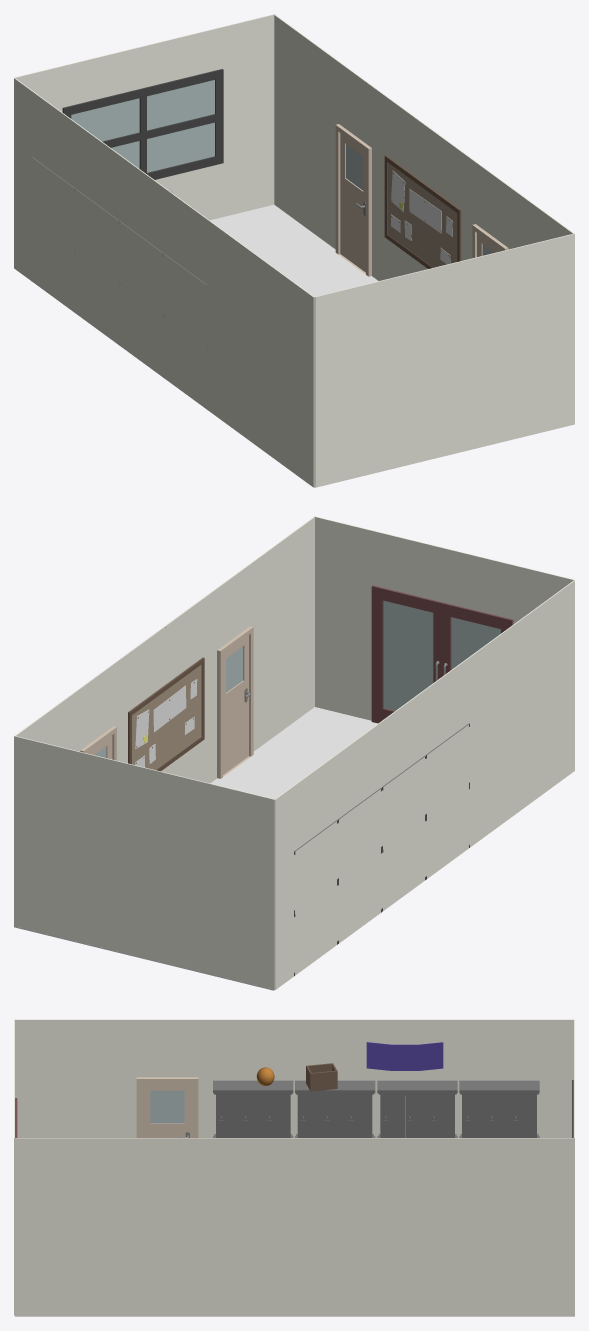
Rendered from pasillo_prueba.fbx.
The picture shows the model from 3 angles, top to bottom: view 1: azimuth 30°, elevation 25°; view 2: azimuth 150°, elevation 25°; view 3: azimuth 270°, elevation 25°; orthographic projection. The views are drawn at different scales.
Visible parts, largest first — view 1: pCube4, pCube15, pCube10, pCube2, pCube8, pCube1, pCube5 (×2), pCube11, pCube19; view 2: pCube4, pCube2, pCube10, pCube15, pCube6, pCube1, pCube5 (×2), pCube11, pCube19; view 3: pCube10, pCube4, Taquillas1, pCube5, Taquillas2, pPlane1, Puerta, pCube7, pCube1.
Boxes of the visible parts, x1=… form: pCube4: x1=14, y1=78, x2=314, y2=487; pCube15: x1=314, y1=233, x2=574, y2=487; pCube10: x1=274, y1=14, x2=573, y2=280; pCube2: x1=15, y1=14, x2=274, y2=220; pCube8: x1=62, y1=69, x2=223, y2=179; pCube1: x1=210, y1=204, x2=574, y2=487; pCube5 (×2): x1=335, y1=124, x2=508, y2=276; pCube11: x1=384, y1=155, x2=461, y2=268; pCube19: x1=409, y1=189, x2=441, y2=233; pCube4: x1=274, y1=580, x2=574, y2=989; pCube2: x1=14, y1=736, x2=274, y2=989; pCube10: x1=15, y1=517, x2=314, y2=783; pCube15: x1=314, y1=516, x2=573, y2=720; pCube6: x1=371, y1=585, x2=513, y2=723; pCube1: x1=14, y1=707, x2=377, y2=990; pCube5 (×2): x1=80, y1=626, x2=253, y2=778; pCube11: x1=128, y1=657, x2=204, y2=771; pCube19: x1=153, y1=685, x2=186, y2=732; pCube10: x1=15, y1=1138, x2=574, y2=1315; pCube4: x1=15, y1=1019, x2=573, y2=1137; Taquillas1: x1=213, y1=1080, x2=539, y2=1137; pCube5: x1=136, y1=1077, x2=198, y2=1137; Taquillas2: x1=377, y1=1080, x2=457, y2=1137; pPlane1: x1=366, y1=1042, x2=443, y2=1070; Puerta: x1=406, y1=1095, x2=429, y2=1137; pCube7: x1=306, y1=1063, x2=337, y2=1091; pCube1: x1=15, y1=1315, x2=574, y2=1316.
Size of the model in its own units: 505 by 351 by 1002.
